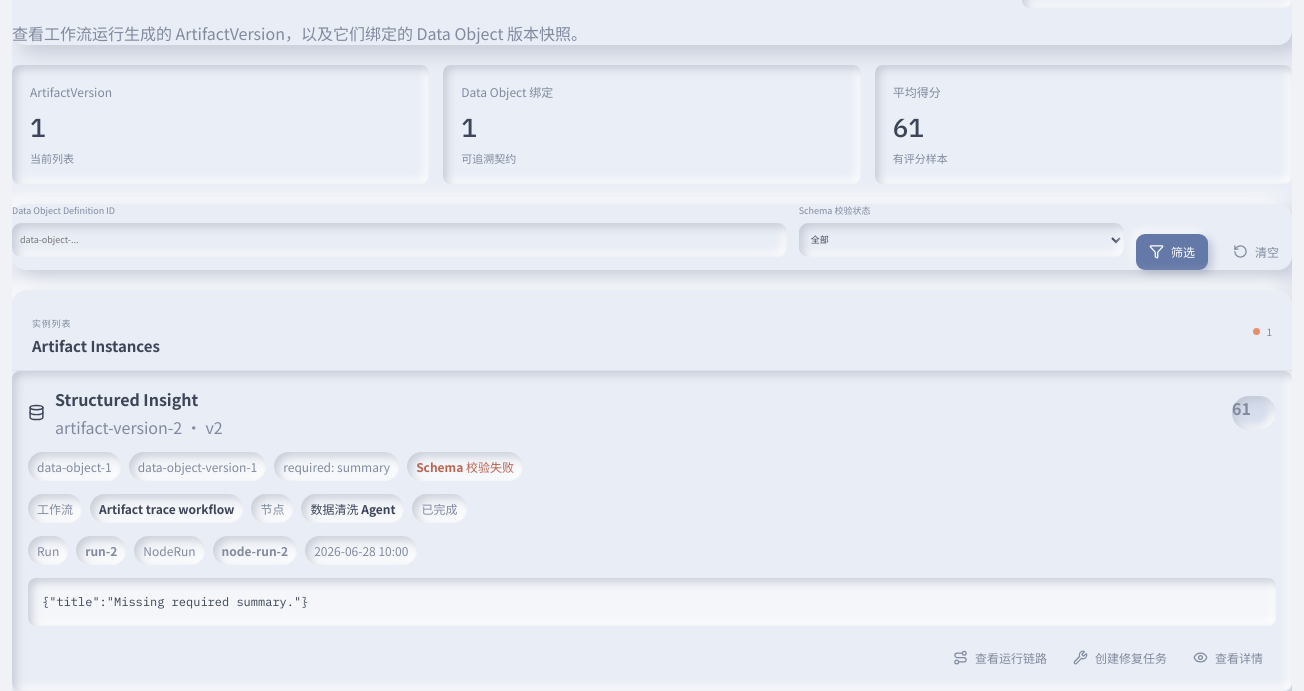
it: Artifacts page › creates a remediation task from a failed artifact card
(page scrolled)
Expected: the text "artifact-version-2 · v2" is shown, [55,415,223,439]
Click the button with aria-label "创建 artifact-version-2 修复任务" at (1120, 657), box [1060,639,1180,675]
(page scrolled)
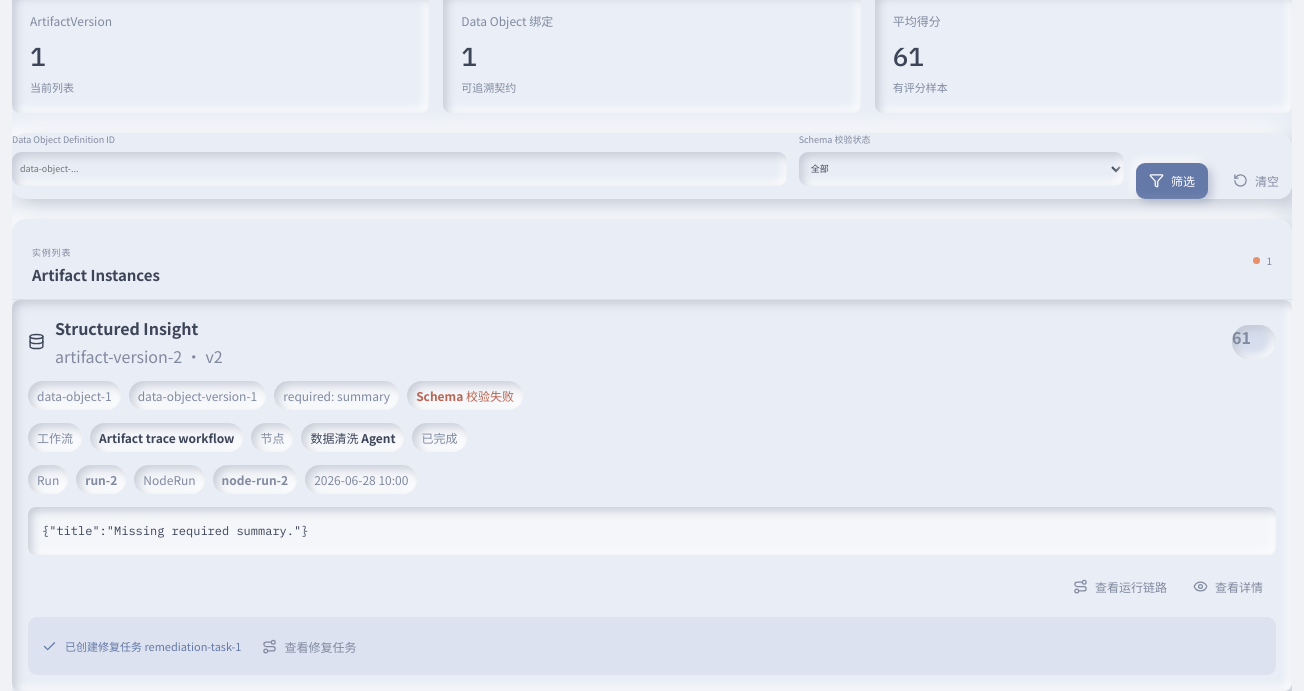
Expected: the text "已创建修复任务 remediation-task-1" is shown, [28,617,1276,675]
